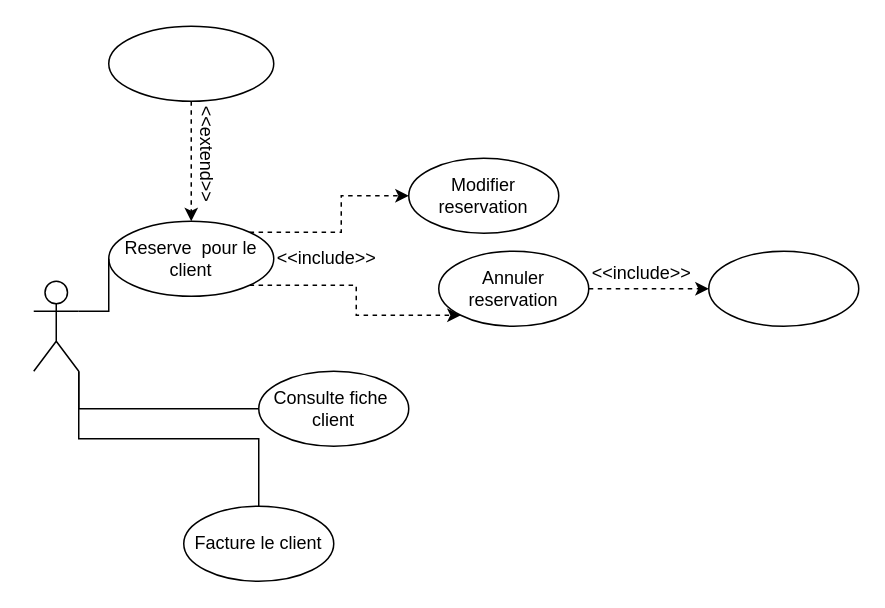
Image size: 885x608. Some labels were removed from this diagram. Each missing label, with the box of its shape:
Archivation annulation: (707, 250, 859, 326)
Hotelier: (32, 280, 79, 371)
Verifie disponibilité chambre: (107, 25, 274, 101)
